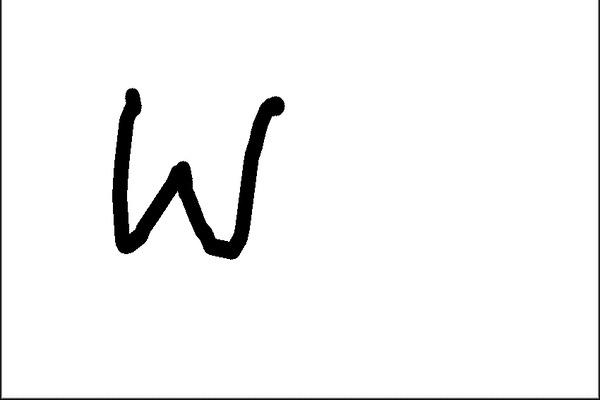w: (98, 65, 293, 283)
